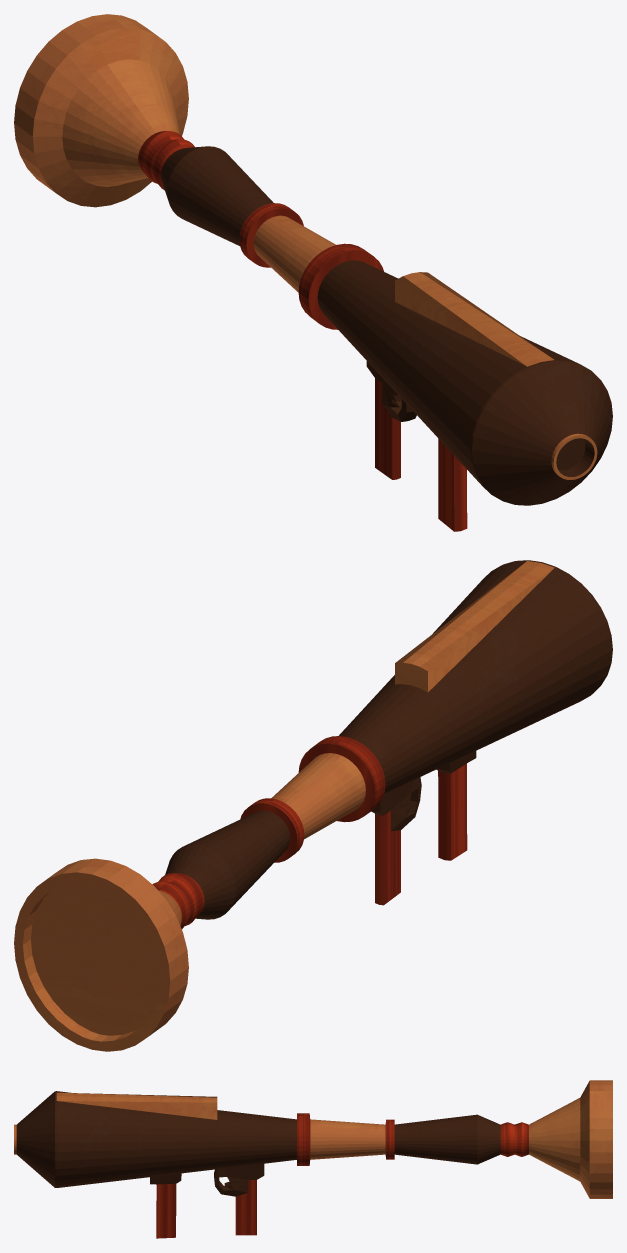
Rendered from rocketlauncher.fbx.
The picture shows the model from 3 angles, top to bottom: view 1: azimuth 30°, elevation 25°; view 2: azimuth 150°, elevation 25°; view 3: azimuth 270°, elevation 25°; orthographic projection. The views are drawn at different scales.
Parts seen in each view (by area): view 1: Cylinder.003, Cylinder.002, Cylinder.001, Cylinder.004; view 2: Cylinder.003, Cylinder.002, Cylinder.001, Cylinder.004; view 3: Cylinder.003, Cylinder.002, Cylinder.001, Cylinder.004.
Part boxes in pixels (<box>): Cylinder.003: <box>161,146,612,505</box>; Cylinder.002: <box>14,14,335,292</box>; Cylinder.001: <box>138,131,467,531</box>; Cylinder.004: <box>395,272,597,479</box>; Cylinder.003: <box>165,560,612,919</box>; Cylinder.002: <box>14,753,365,1051</box>; Cylinder.001: <box>152,736,467,929</box>; Cylinder.004: <box>395,561,554,692</box>; Cylinder.003: <box>16,1091,500,1196</box>; Cylinder.002: <box>310,1080,612,1198</box>; Cylinder.001: <box>156,1113,528,1238</box>; Cylinder.004: <box>14,1092,217,1154</box>.
Size of the model in its own units: 63.09 by 94.65 by 338.
